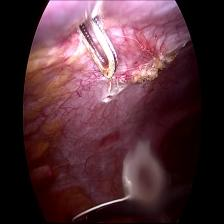Grasper: (76, 9, 124, 91)
Specimen Bag: (65, 136, 172, 224)
